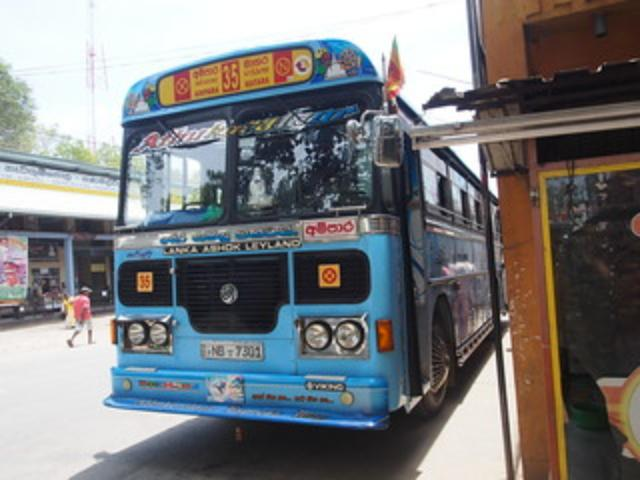bus: (100, 38, 504, 432)
